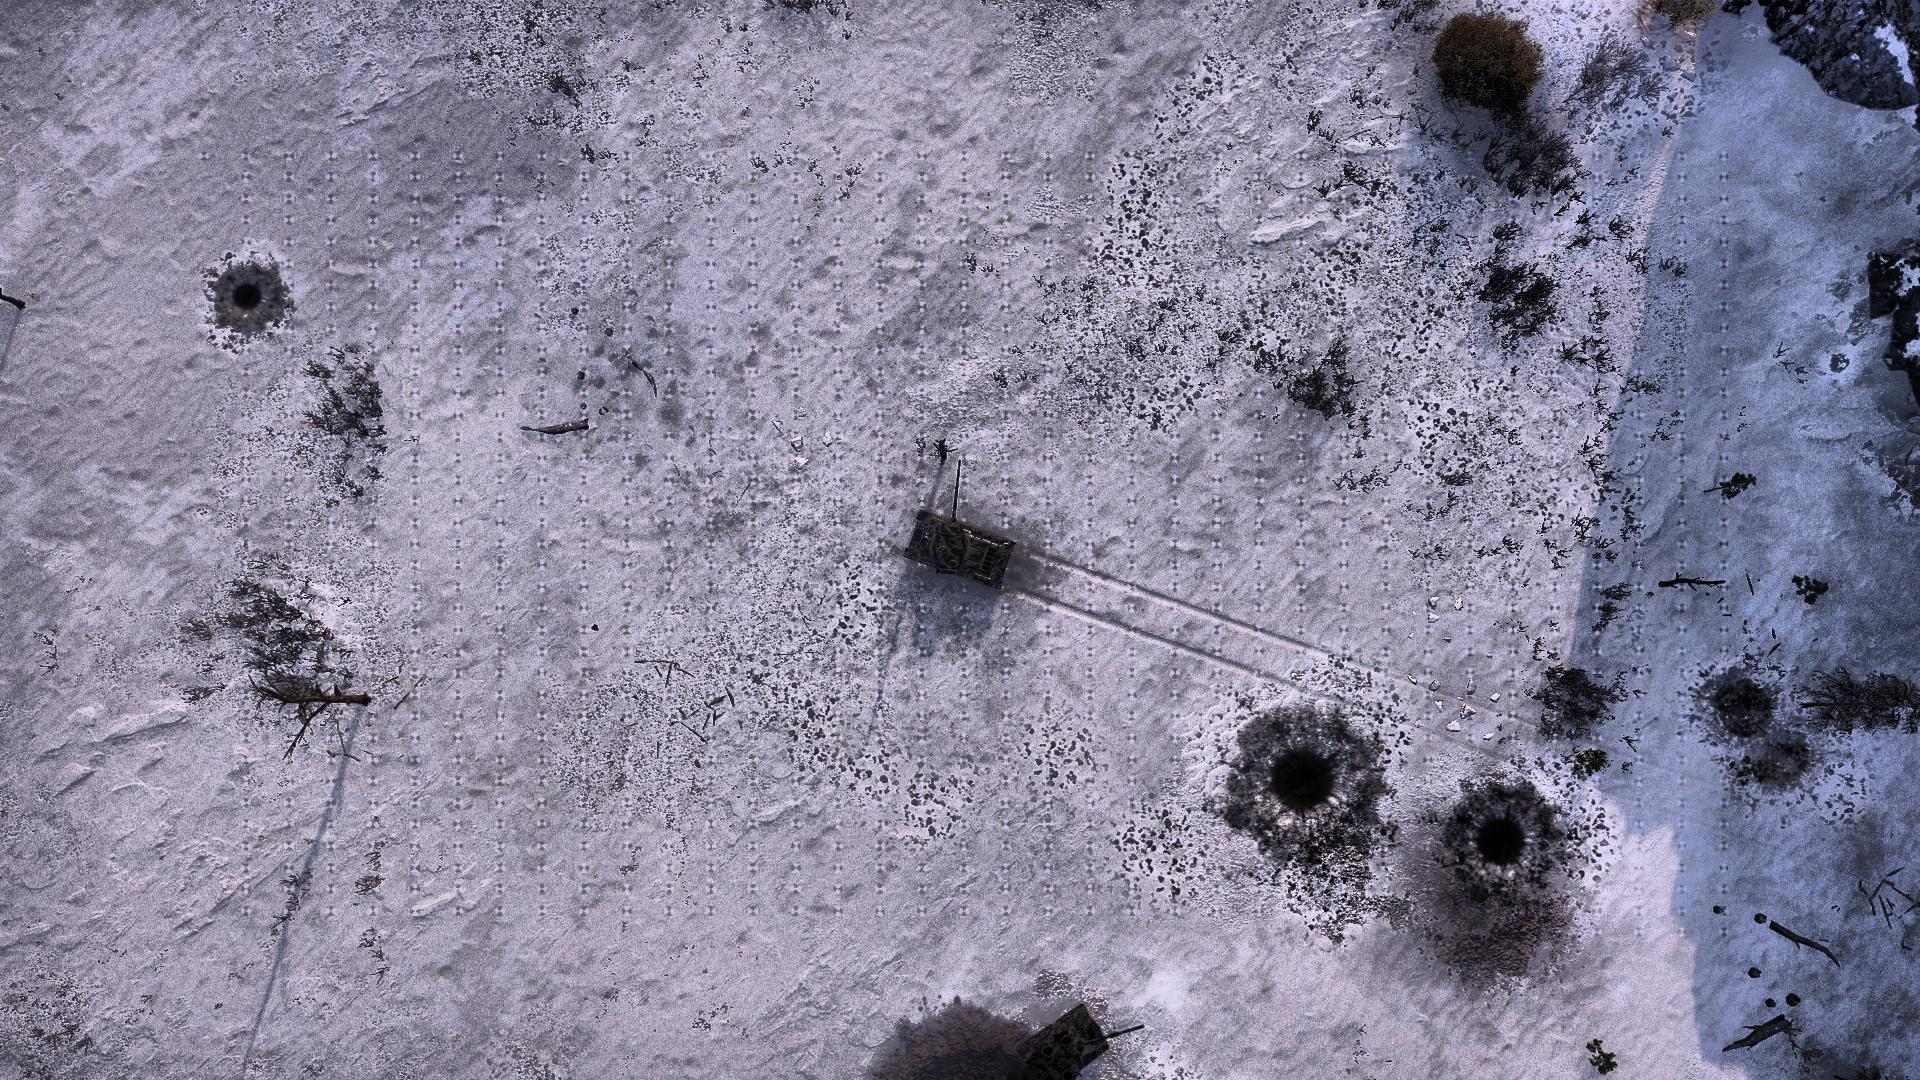military-vehicle: (902, 460, 1015, 588)
